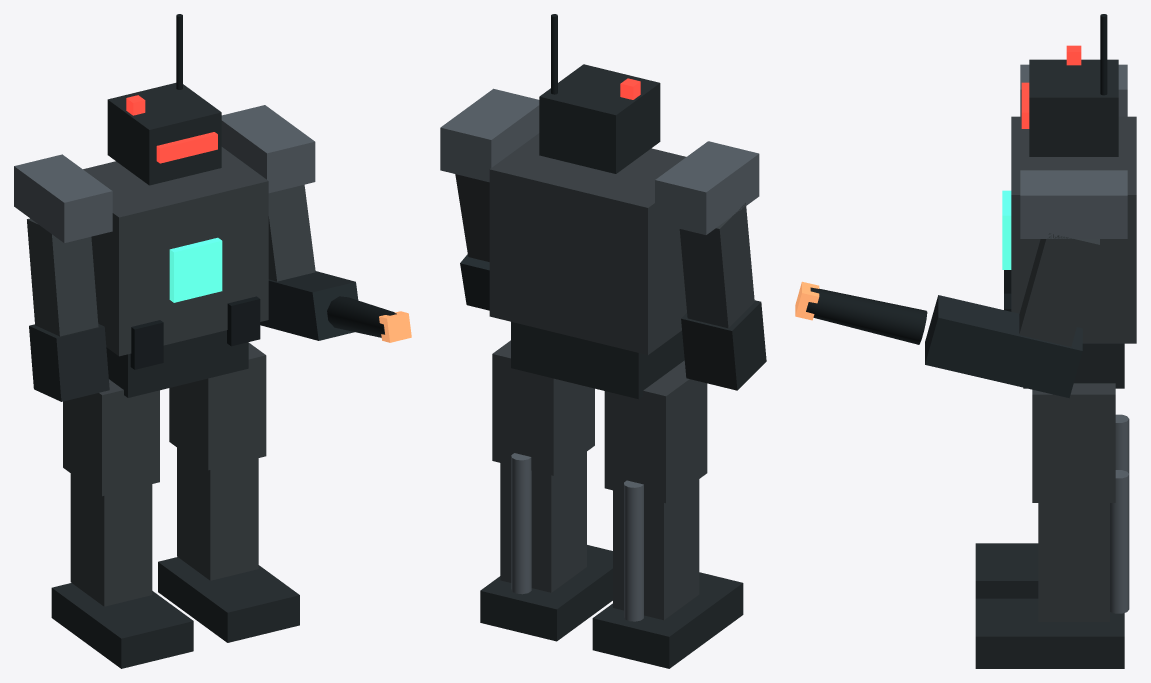
File: robot.glb
3 renders of one model, left to right at view 1: azimuth 30°, elevation 25°; view 2: azimuth 150°, elevation 25°; view 3: azimuth 270°, elevation 25°, orthographic. The views are drawn at different scales.
Parts seen in each view (by area): view 1: Torso, ShinArmor (×2), ThighArmor (×2), Foot (×2), UpperArm (×2), HeadSkull, ShoulderL, ShoulderR, Hips, Fist, Cannon, Core (+5 smaller); view 2: Torso, ThighArmor (×2), ShinArmor (×2), Foot (×2), HeadSkull, UpperArm (×2), Hips, ShoulderL, ShoulderR, Piston (×2), Fist, Cannon (+1 smaller); view 3: Foot (×2), Torso, Cannon, ThighArmor, ShinArmor, HeadSkull, ShoulderR, UpperArm, CannonBarrel, Piston (×2), Hips, Core (+3 smaller).
Boxes of the visible parts, x1,y1,x2,y2 form: Torso: (83,147,268,356); ShinArmor (×2): (70,448,258,606); ThighArmor (×2): (63,343,266,496); Foot (×2): (51,557,299,668); UpperArm (×2): (27,184,315,336); HeadSkull: (107,83,221,185); ShoulderL: (14,154,112,243); ShoulderR: (221,105,315,193); Hips: (106,330,248,397); Fist: (29,324,109,401); Cannon: (260,271,358,340); Core: (169,237,222,302); Torso: (489,133,686,354); ThighArmor (×2): (492,340,707,503); ShinArmor (×2): (500,452,699,620); Foot (×2): (480,545,743,668); HeadSkull: (539,64,660,173); UpperArm (×2): (455,174,754,328); Hips: (511,322,684,399); ShoulderL: (655,141,759,234); ShoulderR: (440,88,539,182); Piston (×2): (511,453,643,621); Fist: (681,300,766,390); Cannon: (460,254,489,310); Foot (×2): (975,543,1124,668); Torso: (1011,116,1136,343); Cannon: (925,295,1082,398); ThighArmor: (1032,383,1115,502); ShinArmor: (1038,503,1109,621); HeadSkull: (1029,59,1118,156); ShoulderR: (1020,170,1127,238); UpperArm: (1019,233,1099,346); CannonBarrel: (806,287,927,344); Piston (×2): (1110,414,1129,613); Hips: (1023,343,1124,388); Core: (1002,190,1011,269).
Size of the model in its own units: 1.07 by 2.3 by 1.14.
